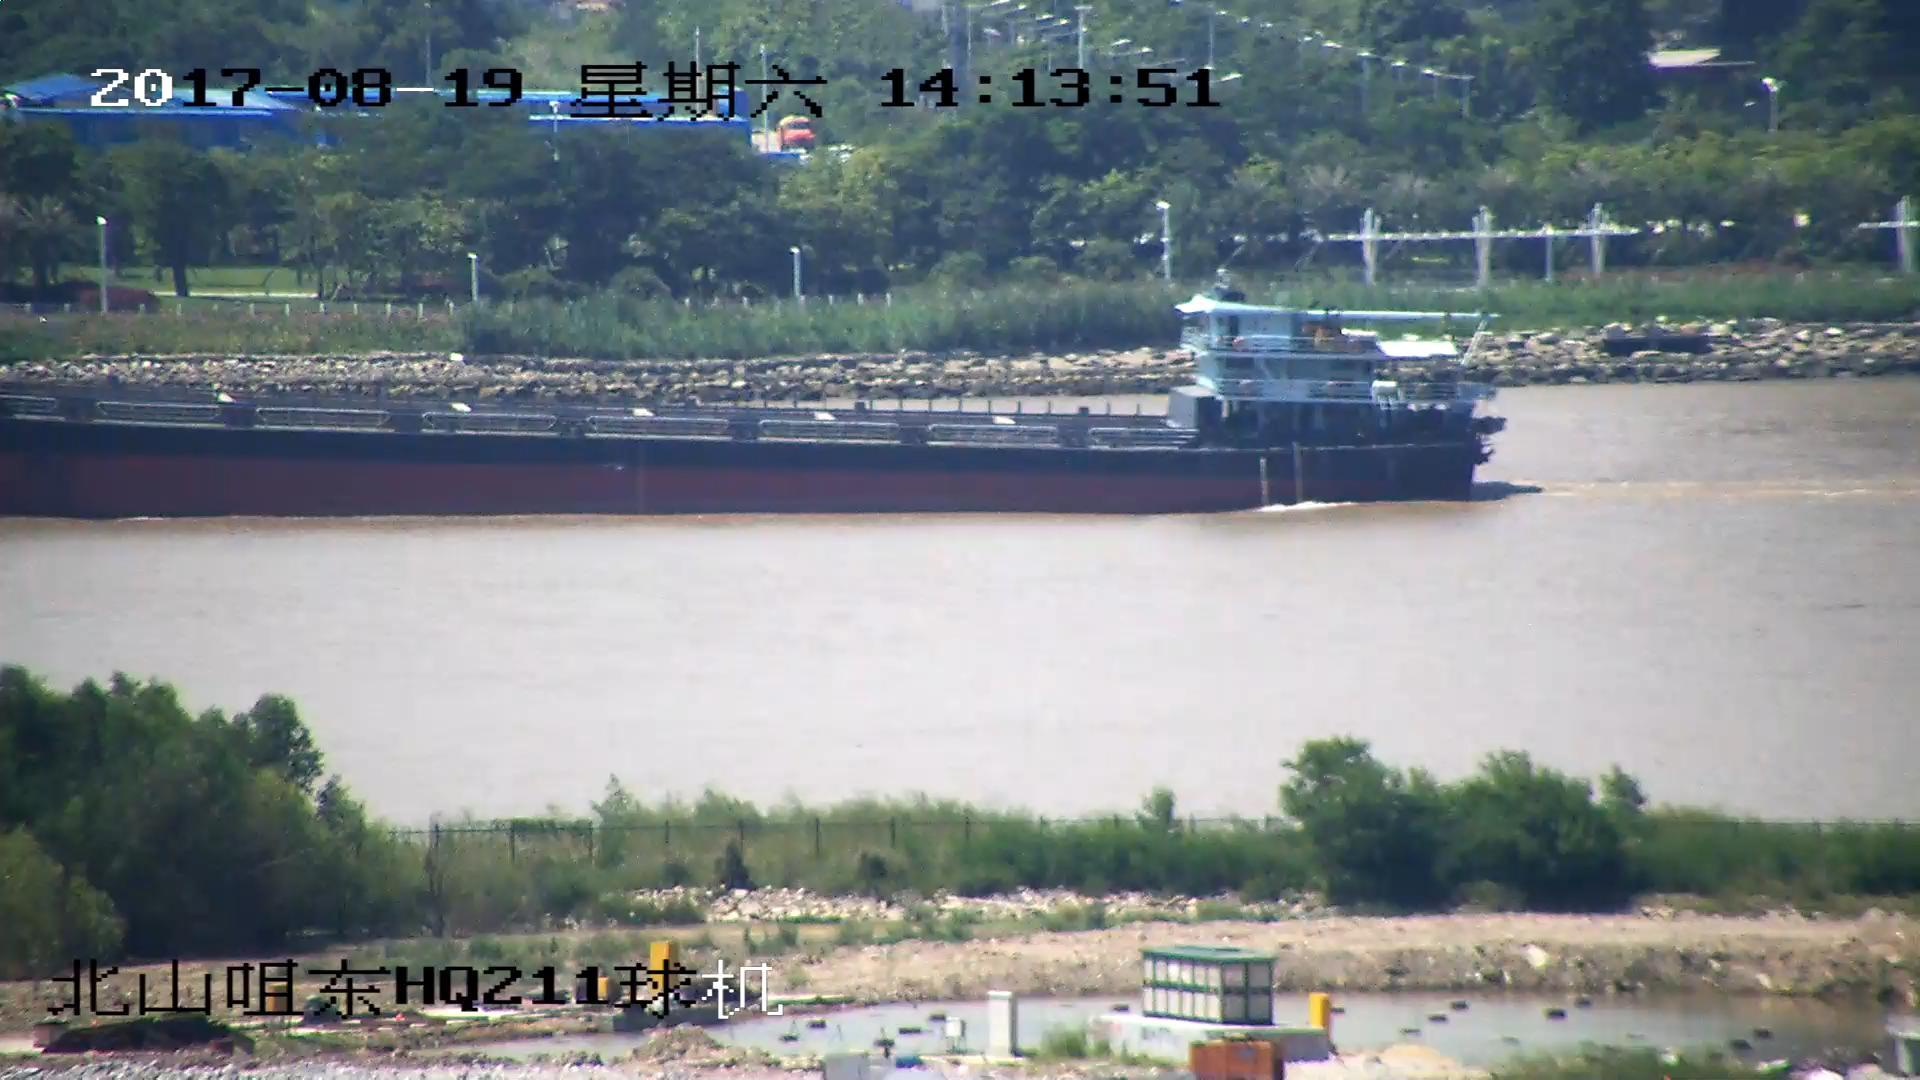Ship: (3, 284, 1497, 522)
